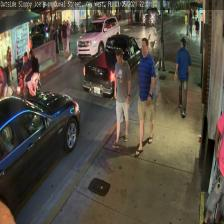person: (135, 37, 155, 157), (112, 48, 131, 148)
